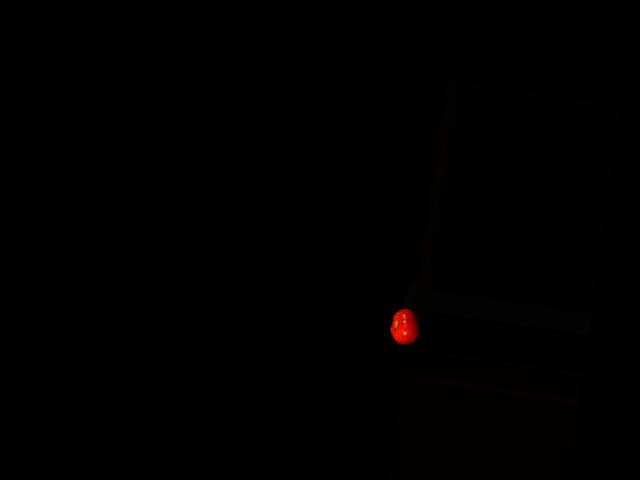tomato: (388, 306, 424, 347)
